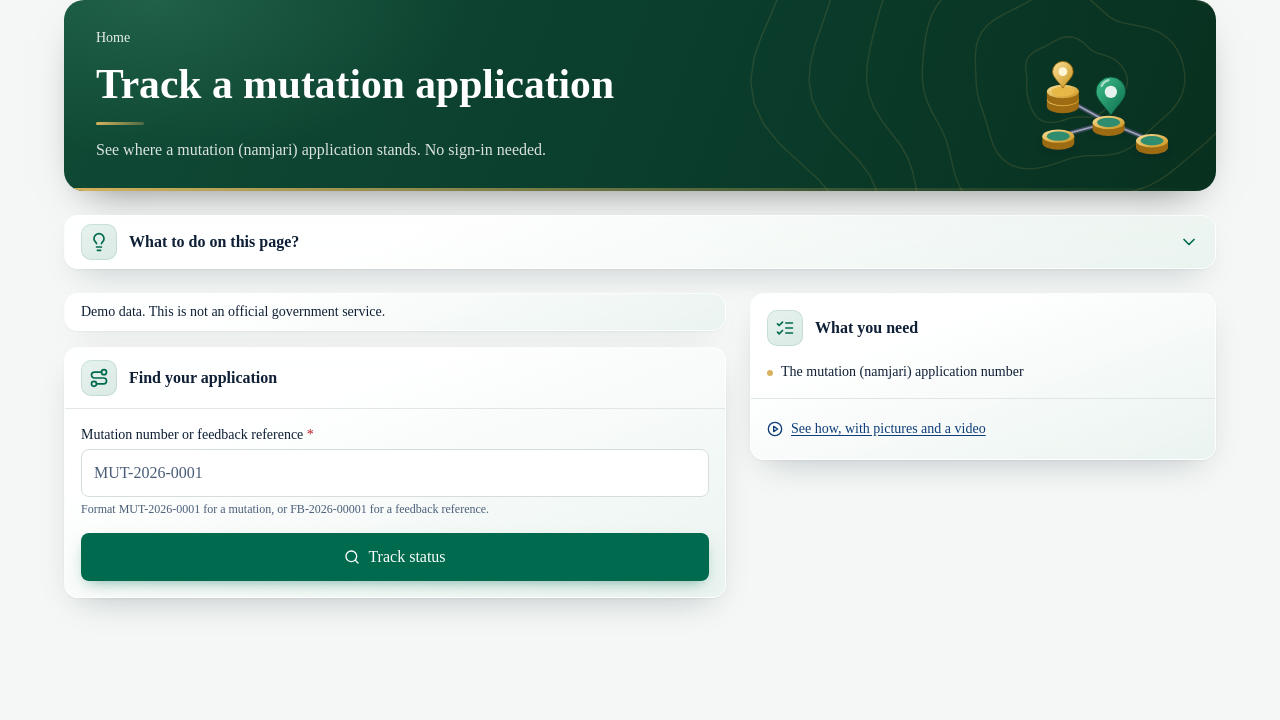
Scenario: TrackView › leads with a plain status sentence: number, stage, days, office (U2.5)
In the field labelled "Mutation number or feedback reference *": (395, 473) [81, 449, 709, 497], type "MUT-2026-0009"
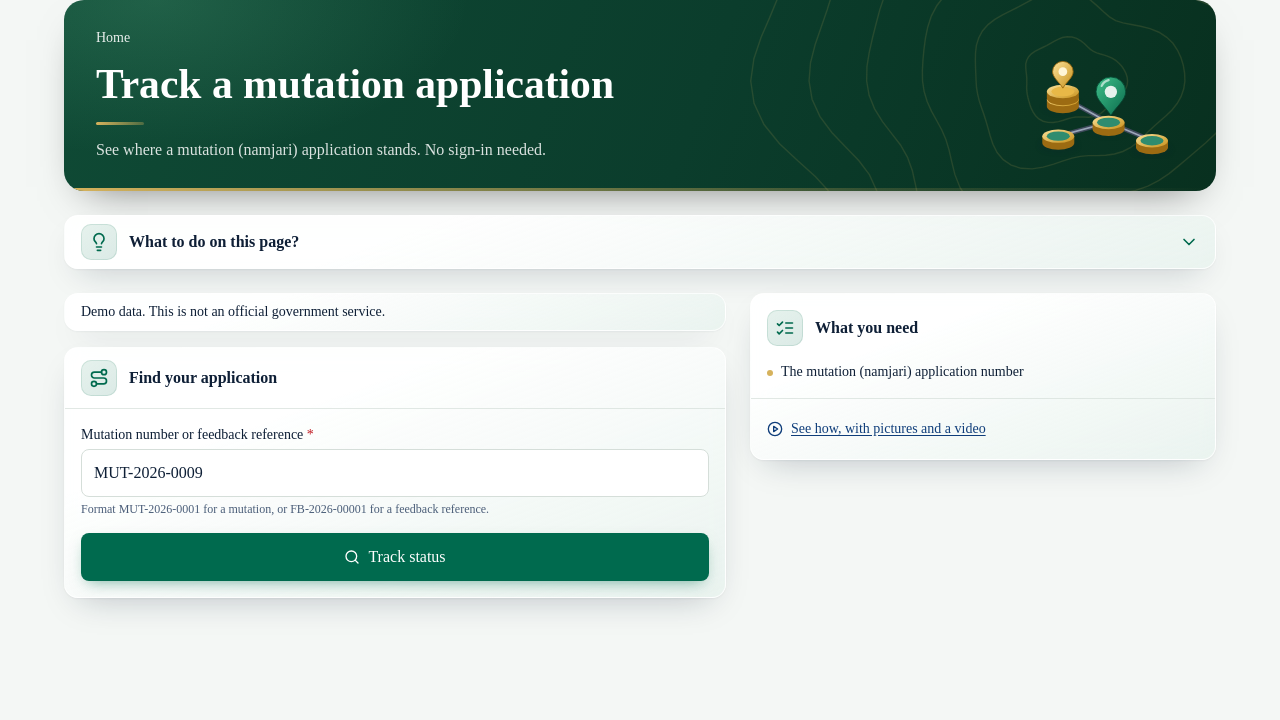
Click the button "Track status": (395, 557) [81, 533, 709, 581]
(page scrolled)
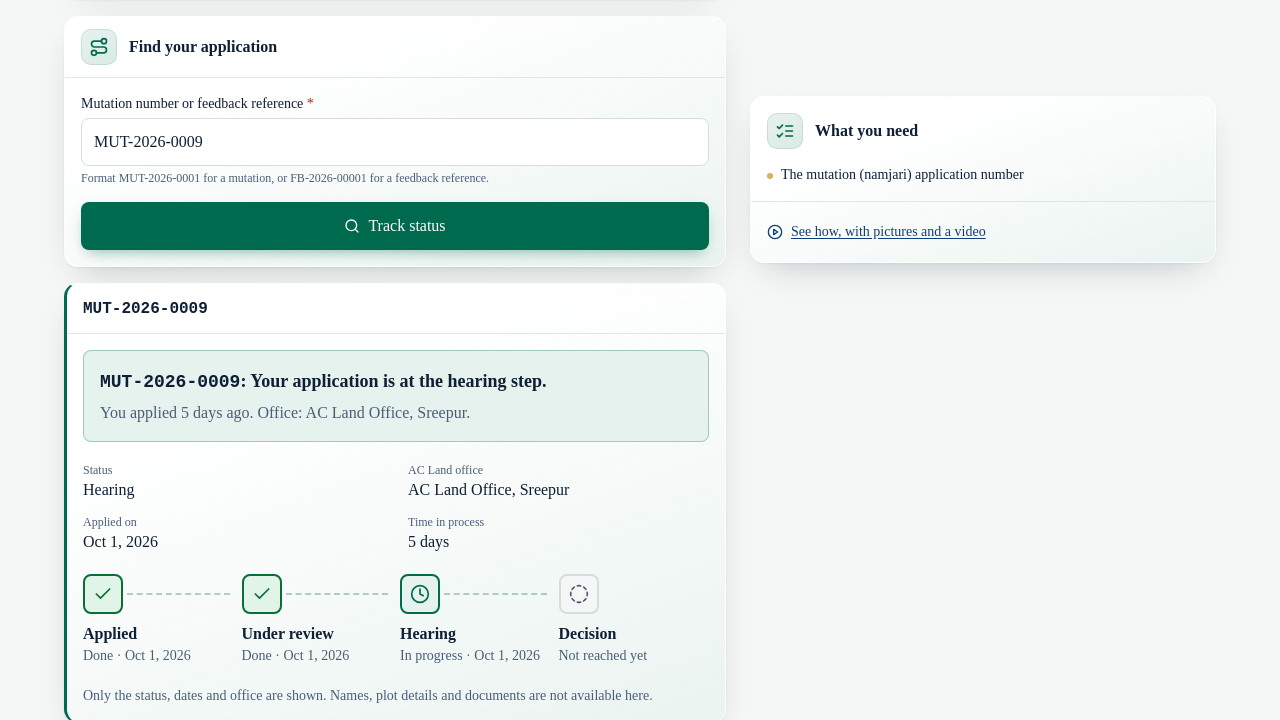
Check: the element with test id "track-sentence" shows "MUT-2026-0009: Your application is at the hearing step.", box [83, 350, 709, 442]
Check: the element with test id "track-sentence" shows "You applied 5 days ago. Office: AC Land Office, Sreepur.", box [83, 350, 709, 442]
